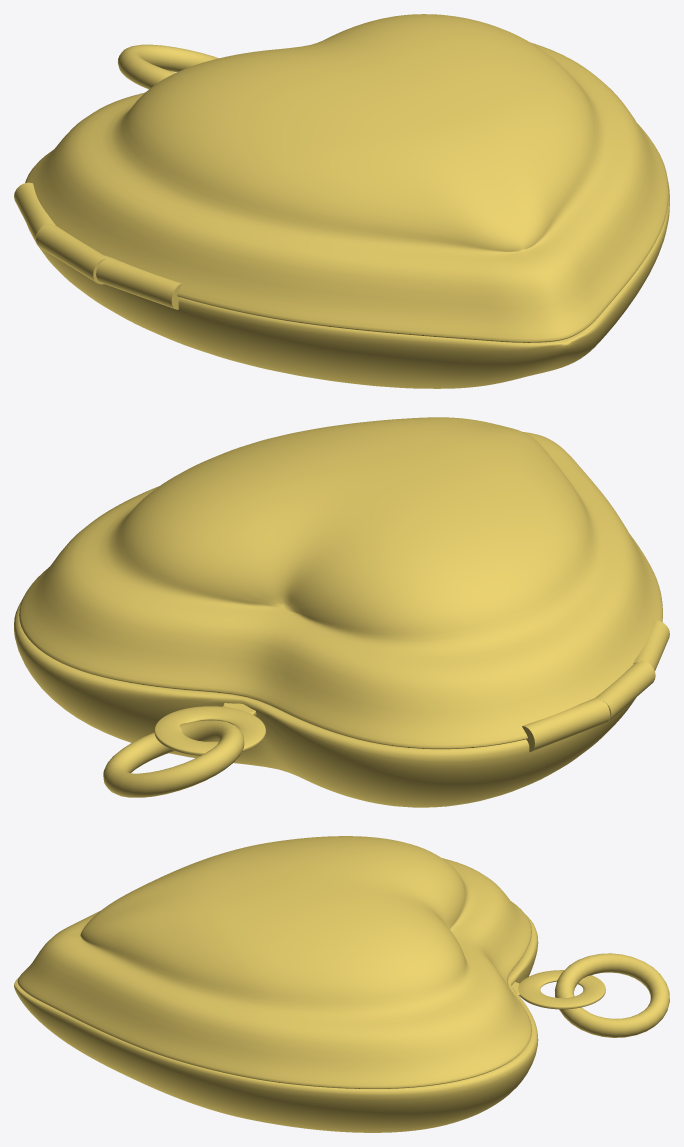
The model's file is locket_single_082521.glb.
The picture shows the model from 3 angles, top to bottom: view 1: azimuth 30°, elevation 25°; view 2: azimuth 150°, elevation 25°; view 3: azimuth 270°, elevation 25°; orthographic projection. The views are drawn at different scales.
Visible parts, largest first — view 1: locket_main_base; view 2: locket_main_base; view 3: locket_main_base.
Part boxes in pixels (x1,y1,x2,y2): locket_main_base: [14, 14, 669, 388]; locket_main_base: [14, 417, 669, 807]; locket_main_base: [14, 836, 669, 1132].
Bounding box in the file's own units: 2.21 × 0.9627 × 2.8.
